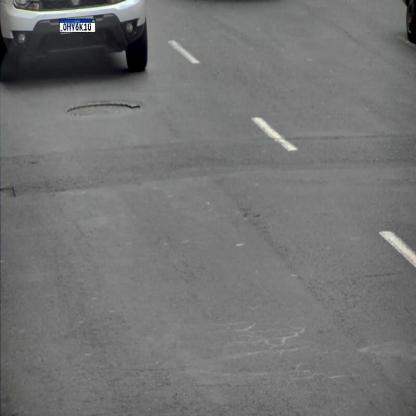PlacaM: (59, 18, 96, 32)
